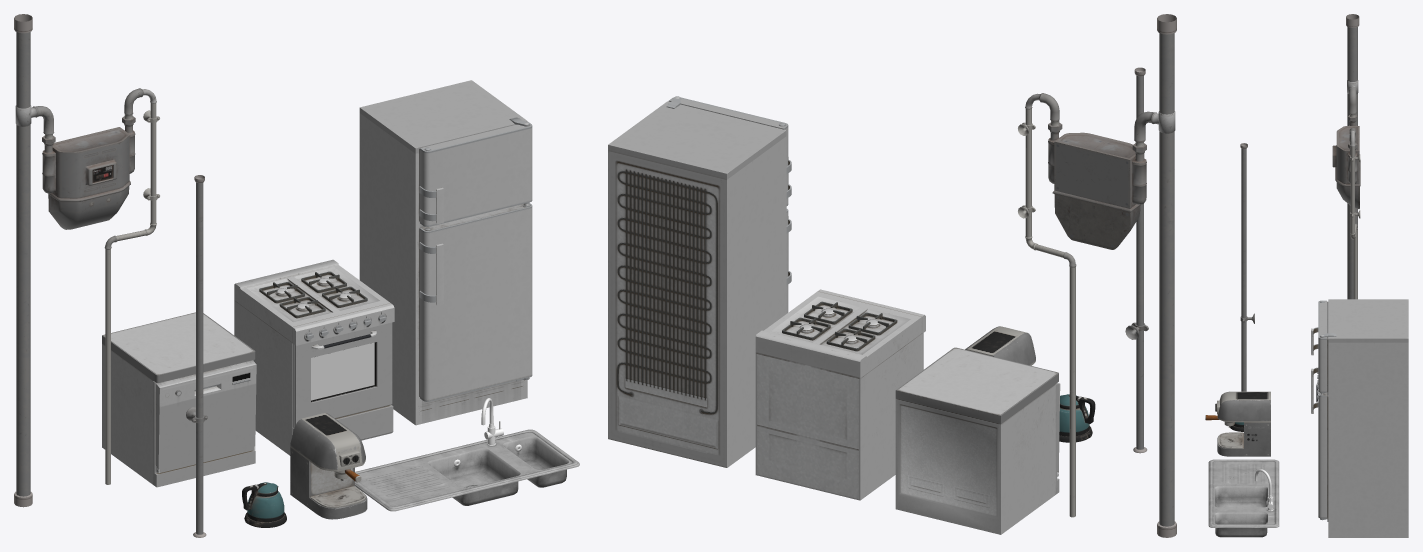
Rendered from Sketchfab_2023_03_18_18_37_07.fbx.
3 views of the same model, side by side, from view 1: azimuth 30°, elevation 25°; view 2: azimuth 150°, elevation 25°; view 3: azimuth 270°, elevation 25° (orthographic). The views are drawn at different scales.
Parts seen in each view (by area): view 1: Refridgerator_A, Oven_A, Washing_Machine_A, Pipes_Kitchen_A, Sink_Kitchen_A, Coffeemachine_A, Pipes_Kitchen_A.001, Boiler_A; view 2: Refridgerator_A, Oven_A, Washing_Machine_A, Pipes_Kitchen_A, Pipes_Kitchen_A.001, Coffeemachine_A, Boiler_A; view 3: Refridgerator_A, Sink_Kitchen_A, Pipes_Kitchen_A, Coffeemachine_A, Pipes_Kitchen_A.001.
Boxes of the visible parts, x1,y1,x2,y2 form: Refridgerator_A: (359,80,532,425); Oven_A: (234,259,394,455); Washing_Machine_A: (102,312,256,487); Pipes_Kitchen_A: (14,14,159,507); Sink_Kitchen_A: (355,398,579,511); Coffeemachine_A: (290,413,367,519); Pipes_Kitchen_A.001: (186,175,207,537); Boiler_A: (242,482,286,527); Refridgerator_A: (608,96,791,467); Oven_A: (755,289,925,500); Washing_Machine_A: (895,347,1060,534); Pipes_Kitchen_A: (1018,14,1176,537); Pipes_Kitchen_A.001: (1125,67,1148,453); Coffeemachine_A: (965,326,1035,365); Boiler_A: (1059,394,1095,442); Refridgerator_A: (1311,299,1408,537); Sink_Kitchen_A: (1208,459,1279,537); Pipes_Kitchen_A: (1332,14,1360,299); Coffeemachine_A: (1205,391,1270,456); Pipes_Kitchen_A.001: (1240,143,1254,391).
Bounding box in the file's own units: 375 × 367 × 185.
